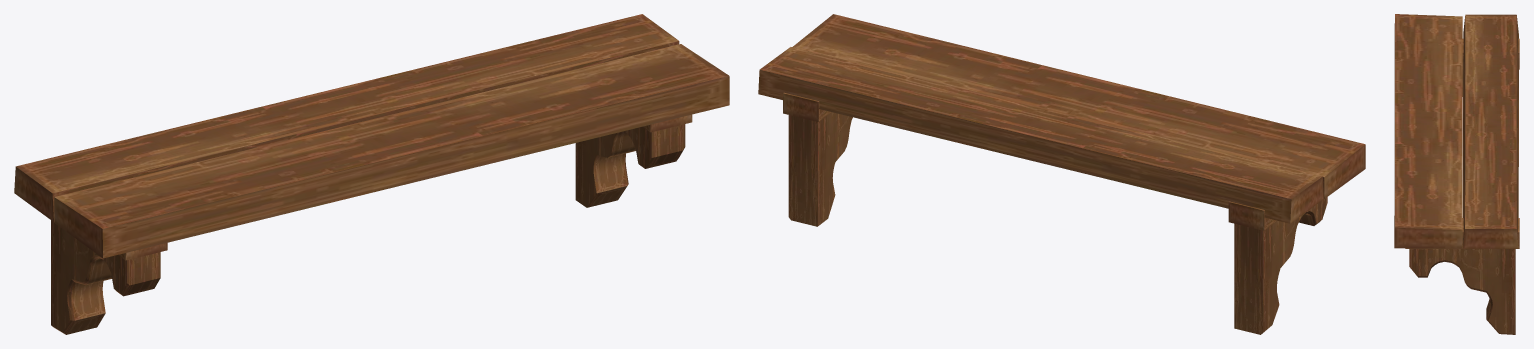
The model's file is Shelf_Simple.glb.
The picture shows the model from 3 angles, left to right: view 1: azimuth 30°, elevation 25°; view 2: azimuth 150°, elevation 25°; view 3: azimuth 270°, elevation 25°; orthographic projection. The views are drawn at different scales.
Parts seen in each view (by area): view 1: Shelf_Simple; view 2: Shelf_Simple; view 3: Shelf_Simple.
Boxes of the visible parts, box(x1,y1,x2,y2) form: Shelf_Simple: box(14, 14, 729, 334); Shelf_Simple: box(758, 14, 1365, 334); Shelf_Simple: box(1394, 14, 1519, 334).
Bounding box in the file's own units: 1.18 × 0.3087 × 0.2923.
1 material, 1 textured.
